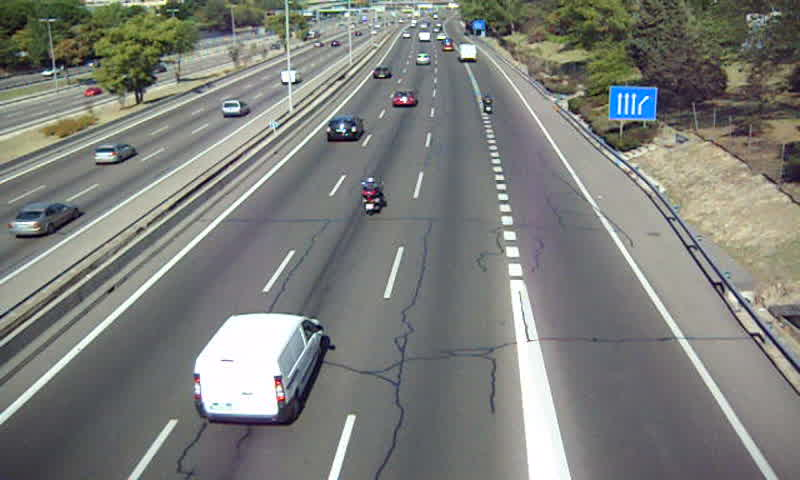car: (323, 116, 364, 141), (392, 89, 417, 106), (372, 65, 392, 78), (414, 52, 429, 66)
motorcycle: (359, 178, 384, 218), (482, 93, 492, 114)
van: (192, 314, 324, 426), (458, 43, 478, 62)
